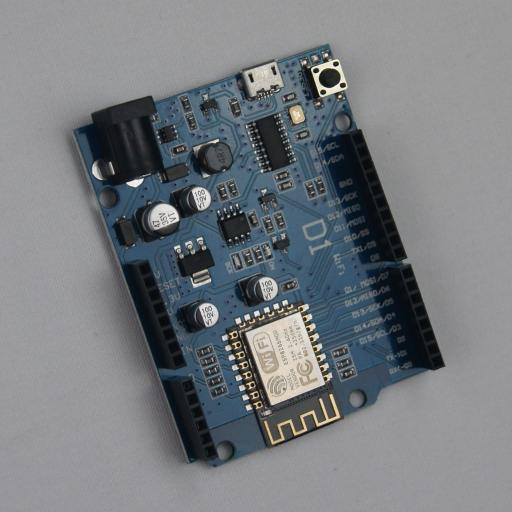Arduino Uno WiFi Shield: (68, 44, 446, 468)
